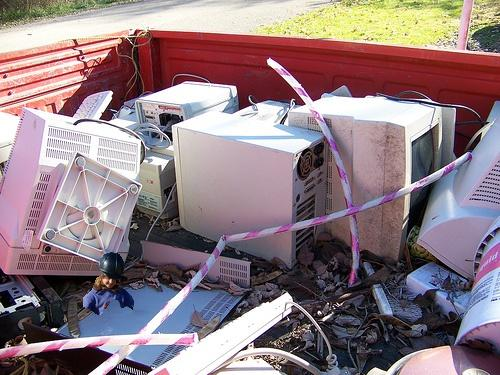tampered: (84, 253, 134, 315)
